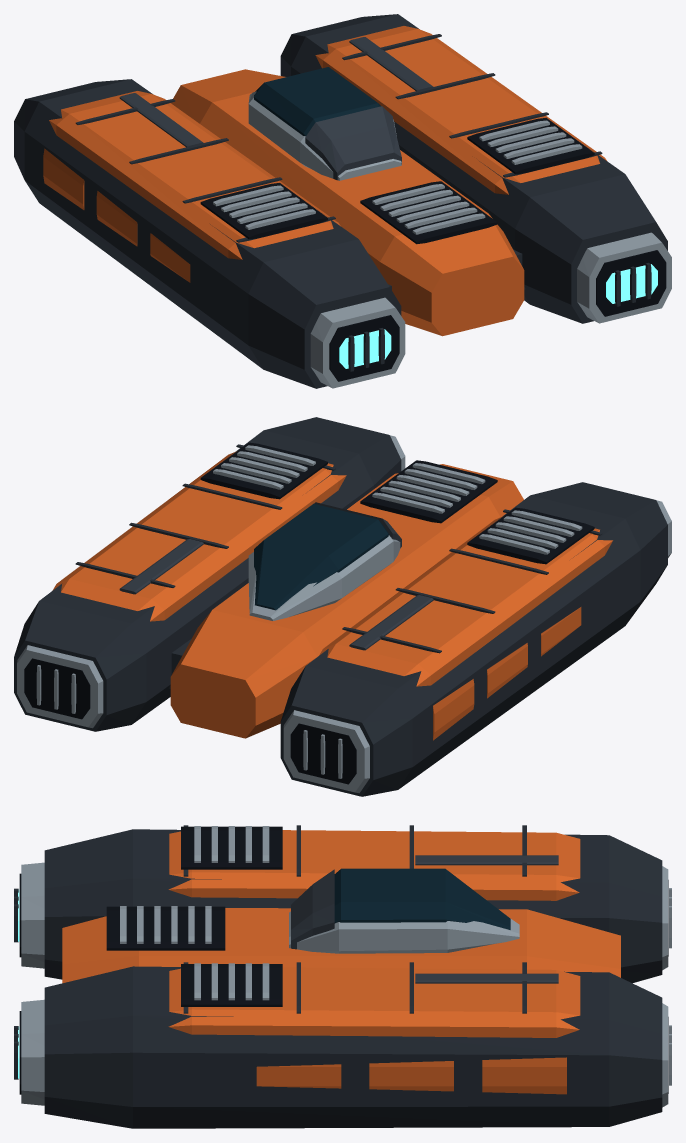
3 views of the same model, one above another, from view 1: azimuth 30°, elevation 25°; view 2: azimuth 150°, elevation 25°; view 3: azimuth 270°, elevation 25° (orthographic). The views are drawn at different scales.
Parts seen in each view (by area): view 1: Team_paint_001, Graphite_chassis_000, Titanium_edges_002, Intake_darkness_005, Secondary_paint_004, Smoked_canopy_003, Thruster_cyan_006; view 2: Team_paint_001, Graphite_chassis_000, Titanium_edges_002, Intake_darkness_005, Smoked_canopy_003, Secondary_paint_004; view 3: Graphite_chassis_000, Team_paint_001, Titanium_edges_002, Intake_darkness_005, Smoked_canopy_003, Secondary_paint_004.
Part boxes in pixels (left/top/right/bottom): Team_paint_001: left=43, top=26, right=606, bottom=336; Graphite_chassis_000: left=14, top=14, right=667, bottom=388; Titanium_edges_002: left=213, top=91, right=671, bottom=388; Intake_darkness_005: left=200, top=117, right=666, bottom=381; Secondary_paint_004: left=119, top=37, right=433, bottom=180; Smoked_canopy_003: left=254, top=67, right=380, bottom=136; Thruster_cyan_006: left=339, top=264, right=657, bottom=368; Team_paint_001: left=52, top=451, right=612, bottom=740; Graphite_chassis_000: left=14, top=417, right=667, bottom=796; Titanium_edges_002: left=17, top=435, right=671, bottom=793; Intake_darkness_005: left=24, top=442, right=594, bottom=784; Smoked_canopy_003: left=254, top=503, right=389, bottom=610; Secondary_paint_004: left=119, top=502, right=433, bottom=650; Graphite_chassis_000: left=14, top=825, right=662, bottom=1128; Team_paint_001: left=62, top=830, right=620, bottom=1094; Titanium_edges_002: left=21, top=826, right=671, bottom=1107; Intake_darkness_005: left=19, top=826, right=668, bottom=1094; Smoked_canopy_003: left=334, top=868, right=510, bottom=929; Secondary_paint_004: left=291, top=855, right=558, bottom=983.
Bounding box in the file's own units: 2.3 × 0.8 × 3.17.
